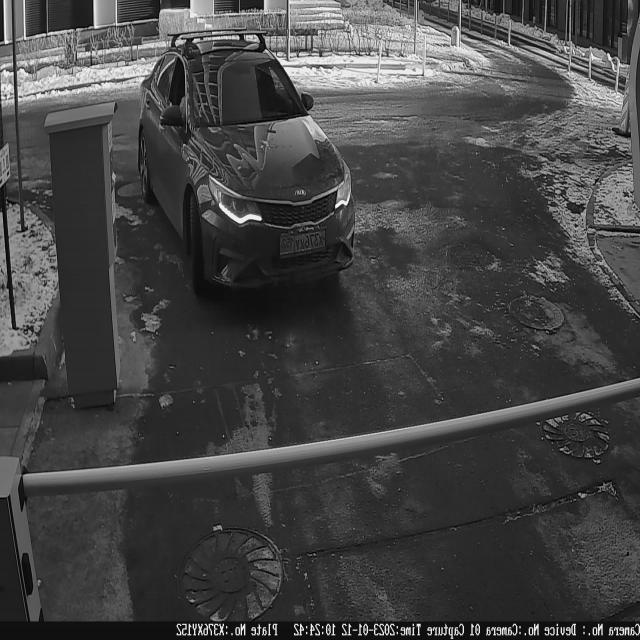car-plate-numbers: (276, 221, 333, 267)
